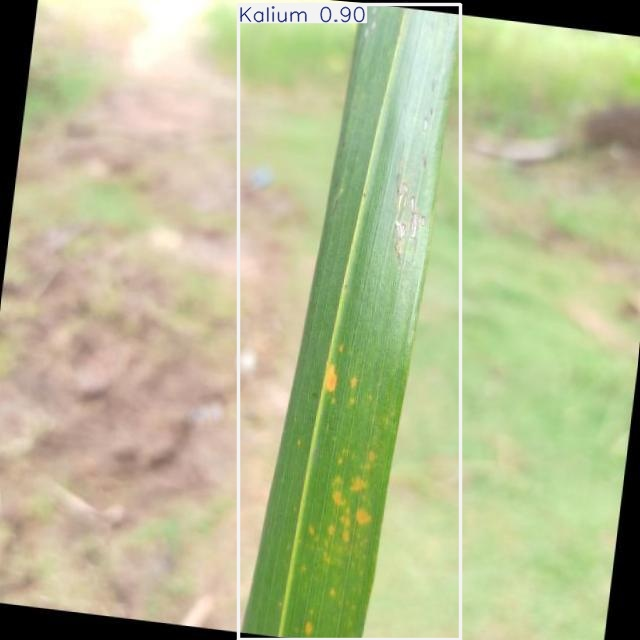Kalium: (238, 4, 460, 640)
